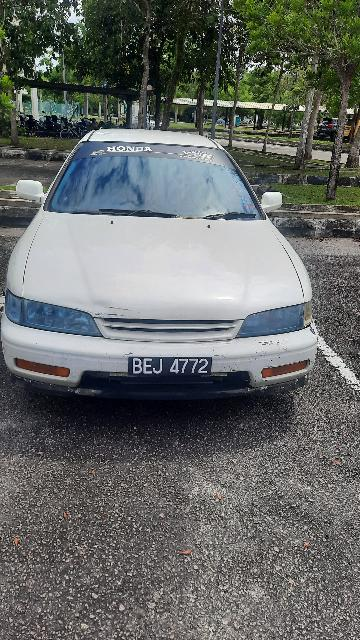License_Plate: (128, 347, 212, 387)
car: (1, 126, 321, 414)
